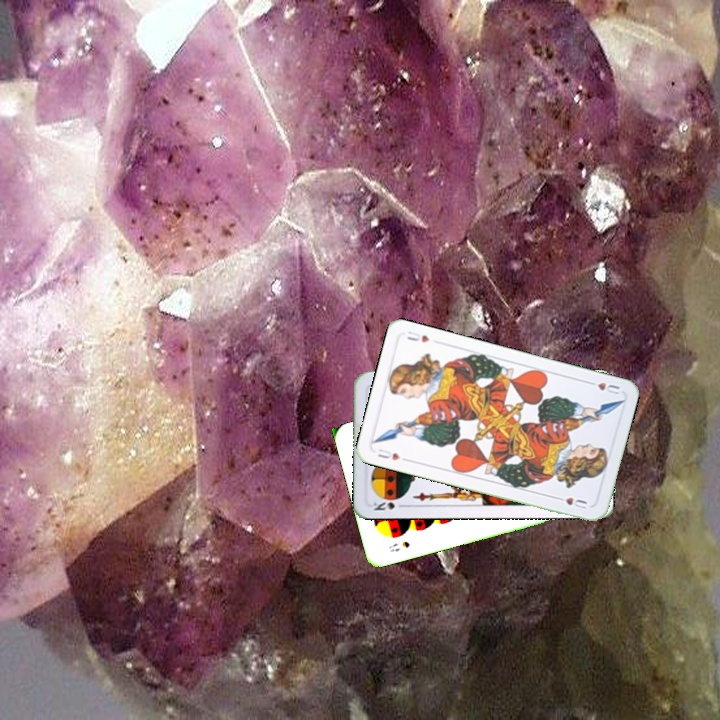HU: (583, 377, 623, 397), (374, 444, 403, 463)
S8: (385, 537, 413, 554)
SK: (368, 498, 408, 513)
